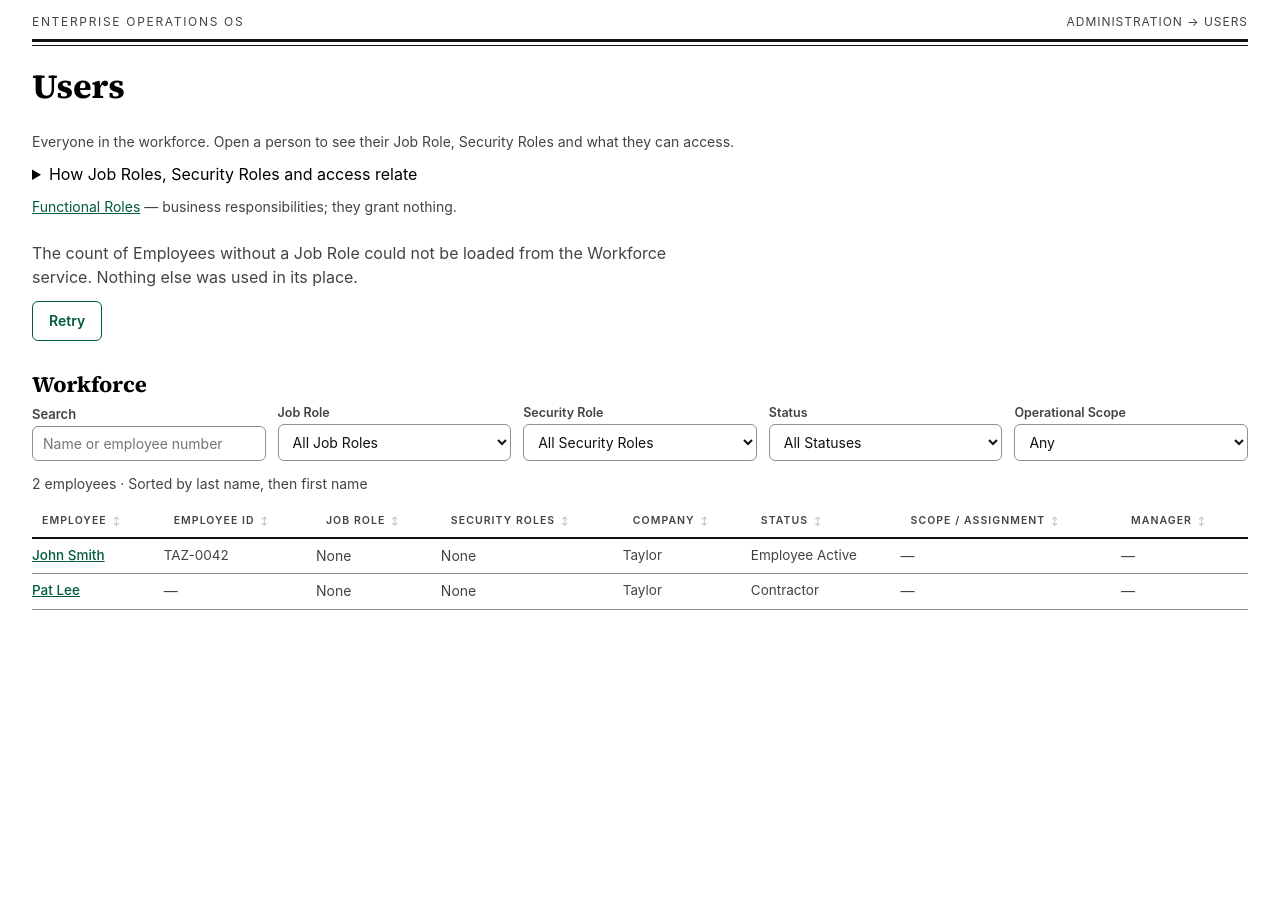
Test: the Job Role remediation count is its own governed read › an outage is stated with Retry, and Retry re-reads
Expected: the text "The count of Employees without a Job Role could not be loaded from the Workforce service" is shown, [32,243,666,287]
Click the button "Retry" at (67, 321), box [32,301,102,341]
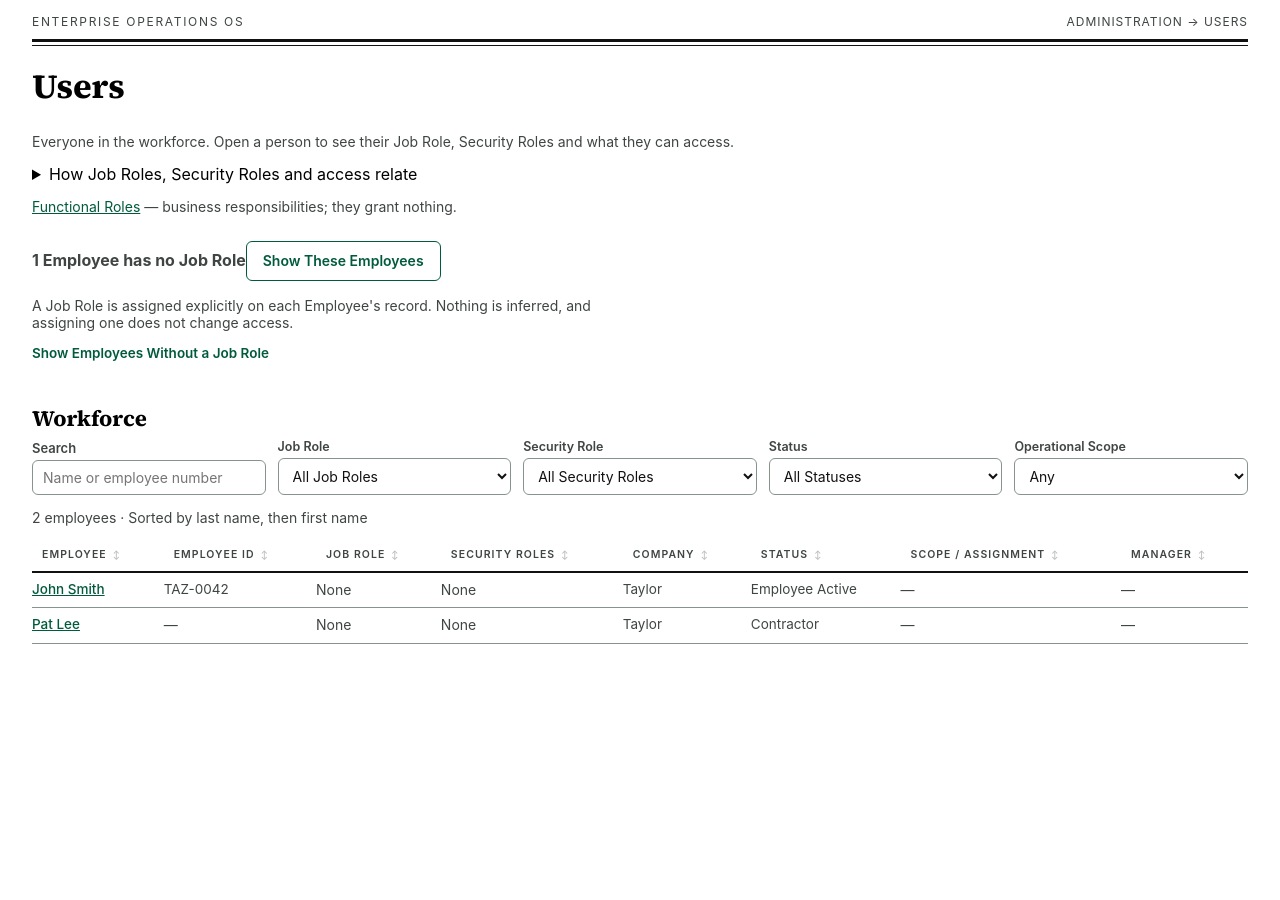
Expected: the text "1 Employee has no Job Role" is shown, [32,250,246,270]
